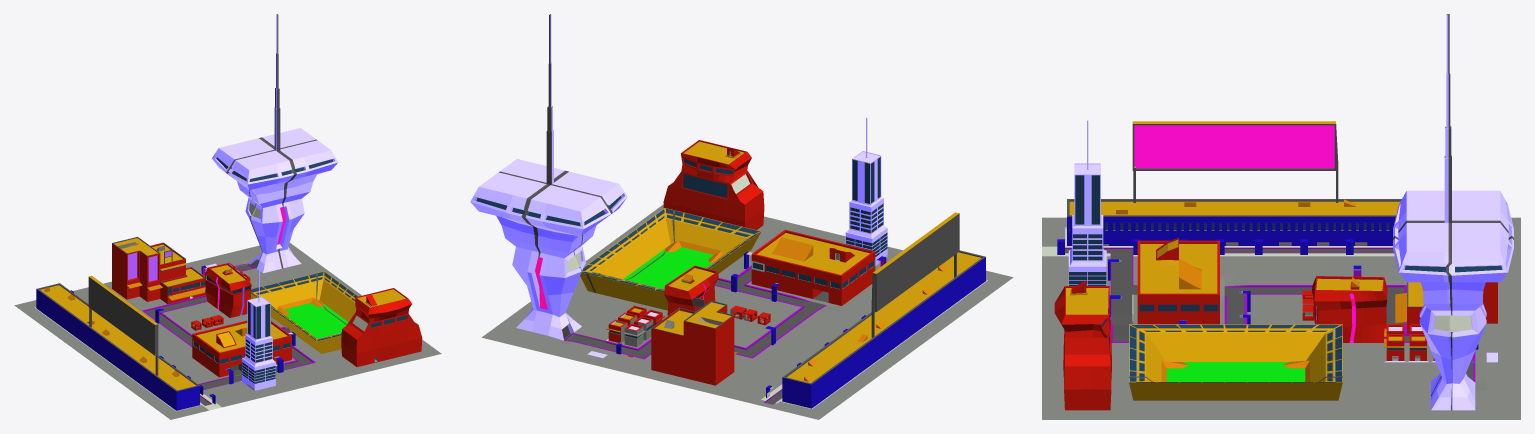
Rendered from city.fbx.
The picture shows the model from 3 angles, left to right: view 1: azimuth 30°, elevation 25°; view 2: azimuth 150°, elevation 25°; view 3: azimuth 270°, elevation 25°; orthographic projection. The views are drawn at different scales.
Visible parts, largest first — view 1: Def; view 2: Def; view 3: Def.
Part boxes in pixels (x1,y1,x2,y2): Def: (14, 14, 441, 419); Def: (470, 14, 1013, 419); Def: (1042, 14, 1520, 419).
Bounding box in the file's own units: 4256 × 3630 × 4000.
